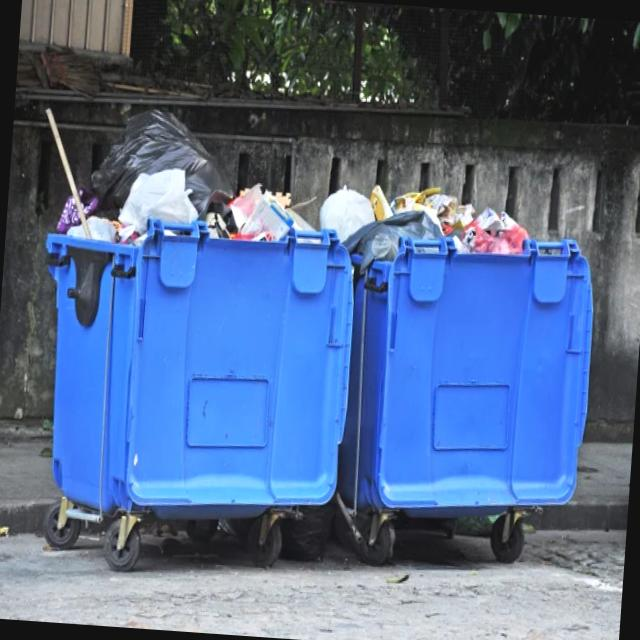garbage: (37, 75, 550, 315)
